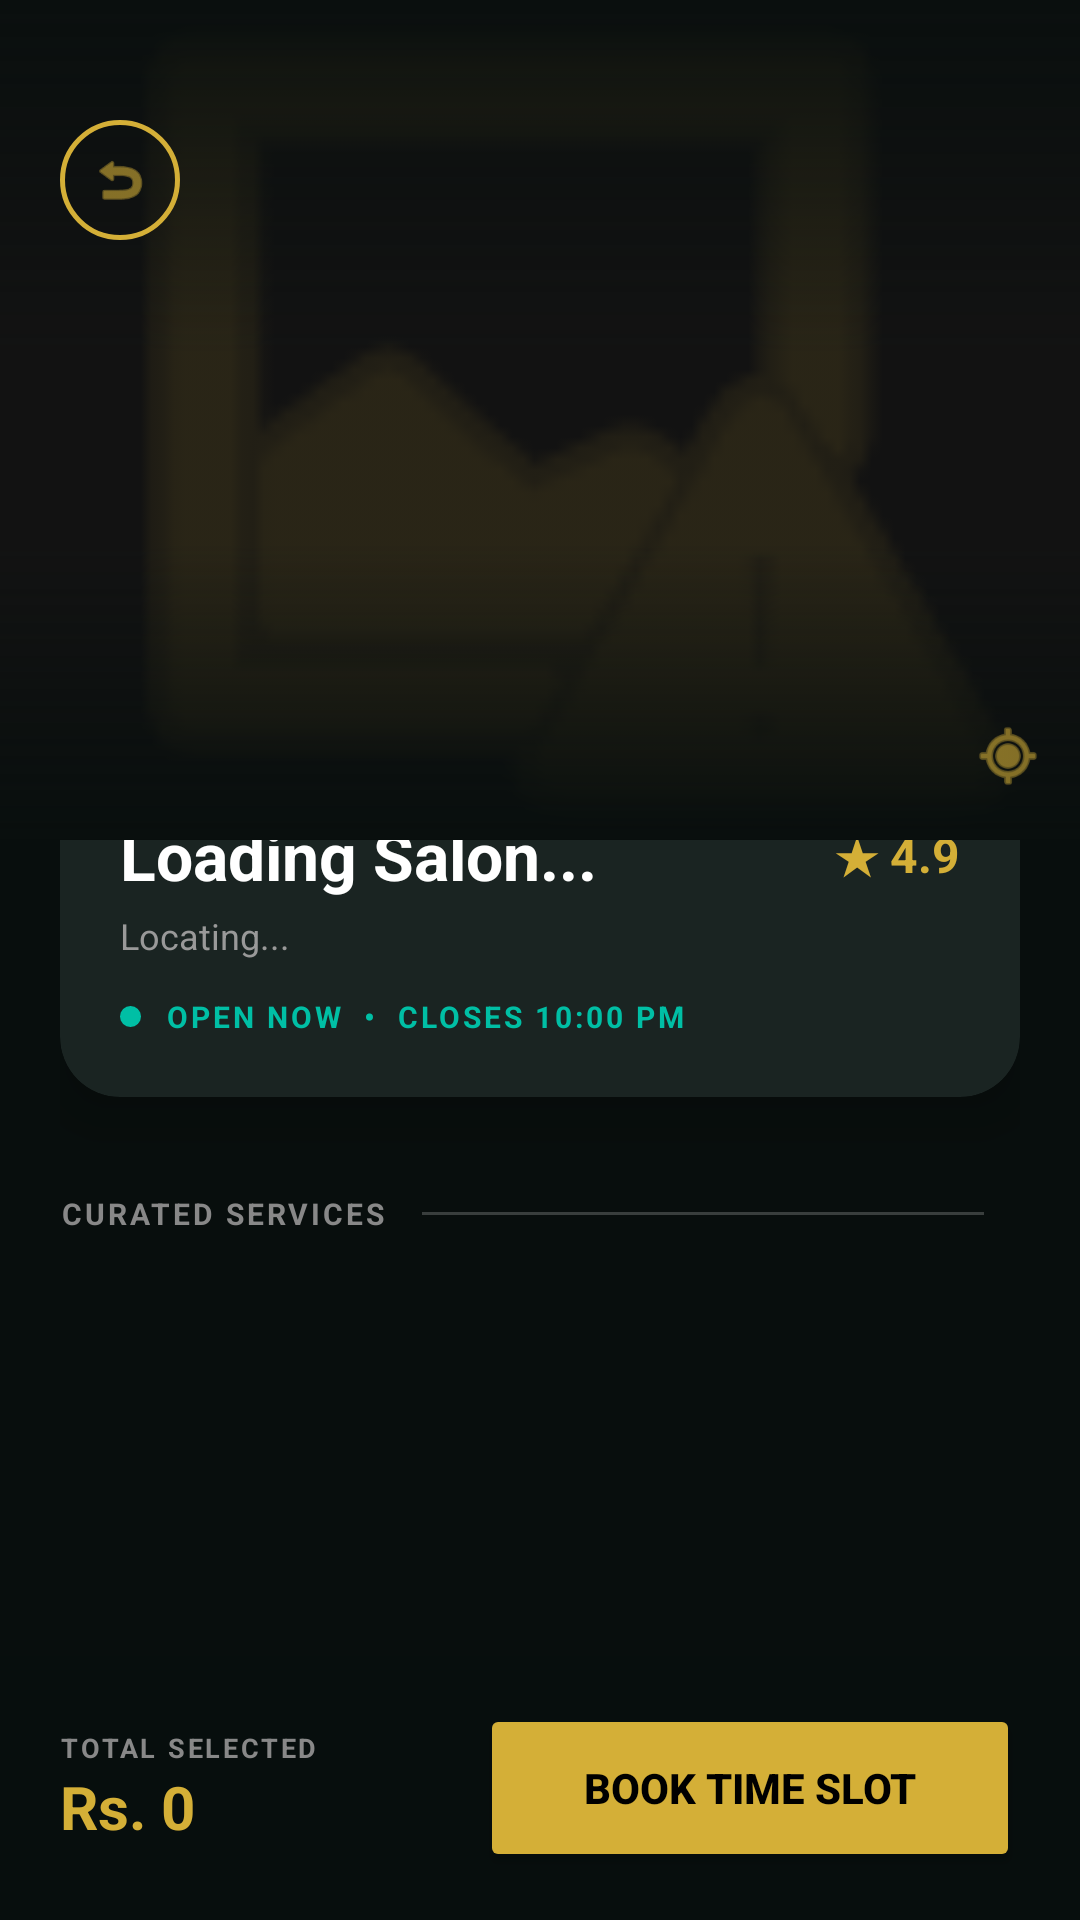

Icon click points for this 1080w x 1920h phone screenshot, format [x,y]:
mylocation: [1008,756]
revert: [120,180]
